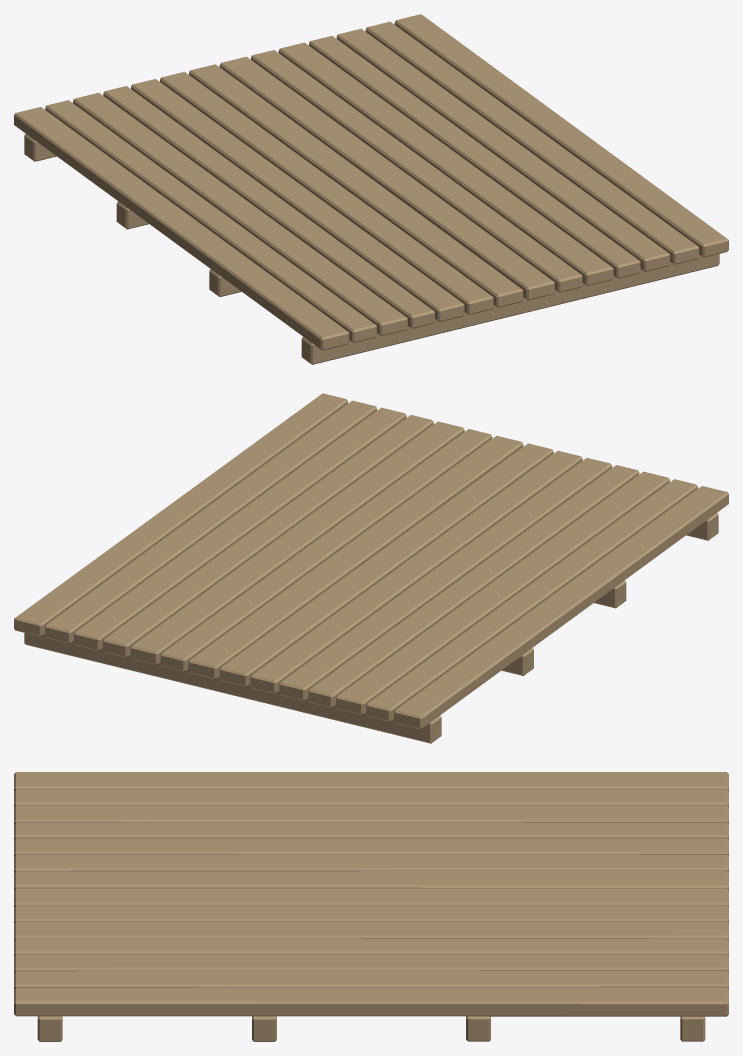
Rendered from LightWoodFloorMediumDecking1.fbx.
3 views of the same model, one above another, from view 1: azimuth 30°, elevation 25°; view 2: azimuth 150°, elevation 25°; view 3: azimuth 270°, elevation 25° (orthographic). The views are drawn at different scales.
Visible parts, largest first — view 1: LightWoodFloorMediumDecking1; view 2: LightWoodFloorMediumDecking1; view 3: LightWoodFloorMediumDecking1.
Part boxes in pixels (<box>): LightWoodFloorMediumDecking1: <box>14,14,728,364</box>; LightWoodFloorMediumDecking1: <box>14,393,728,743</box>; LightWoodFloorMediumDecking1: <box>14,772,728,1041</box>.
Size of the model in its own units: 766 by 62.38 by 1001.
Materials: 1 (1 with a texture image).
